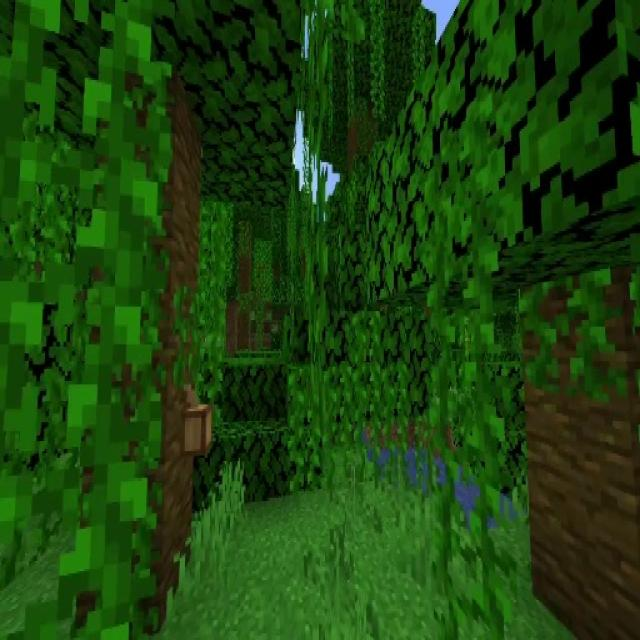jungle_log: (80, 83, 191, 624), (523, 287, 640, 635)
